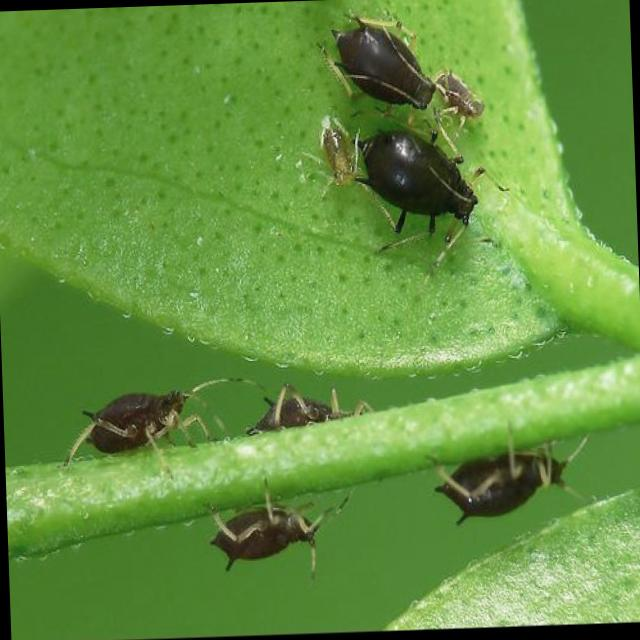Aphids: (354, 129, 514, 249), (320, 9, 474, 128), (82, 369, 230, 483), (196, 496, 356, 576), (438, 448, 582, 518)
